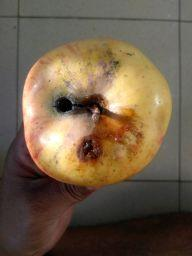Apple Rotten: (13, 29, 177, 205)
